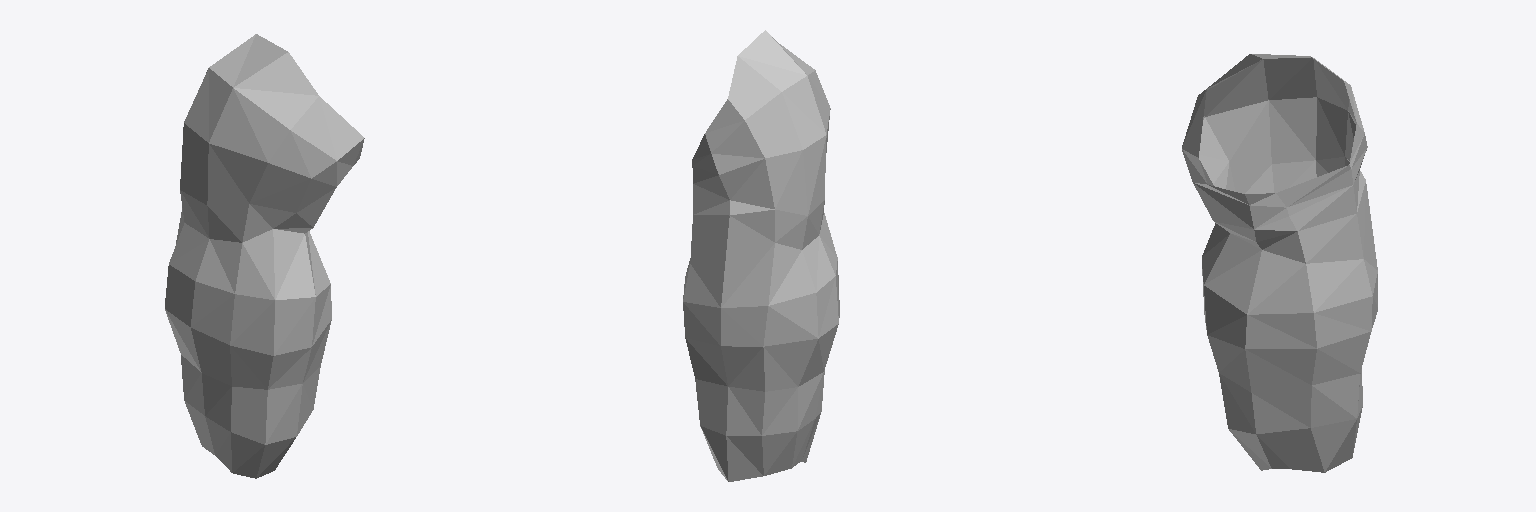
The model's file is Arm_Upper_Right.obj.
3 renders of one model, left to right at view 1: azimuth 30°, elevation 25°; view 2: azimuth 150°, elevation 25°; view 3: azimuth 270°, elevation 25°, orthographic.
Visible parts, largest first — view 1: Arm_Upper.001_Cube.001; view 2: Arm_Upper.001_Cube.001; view 3: Arm_Upper.001_Cube.001.
Boxes of the visible parts, x1=… form: Arm_Upper.001_Cube.001: x1=165, y1=34, x2=364, y2=478; Arm_Upper.001_Cube.001: x1=683, y1=30, x2=839, y2=481; Arm_Upper.001_Cube.001: x1=1182, y1=54, x2=1377, y2=472.
Size of the model in its own units: 3.18 by 9.02 by 3.82.